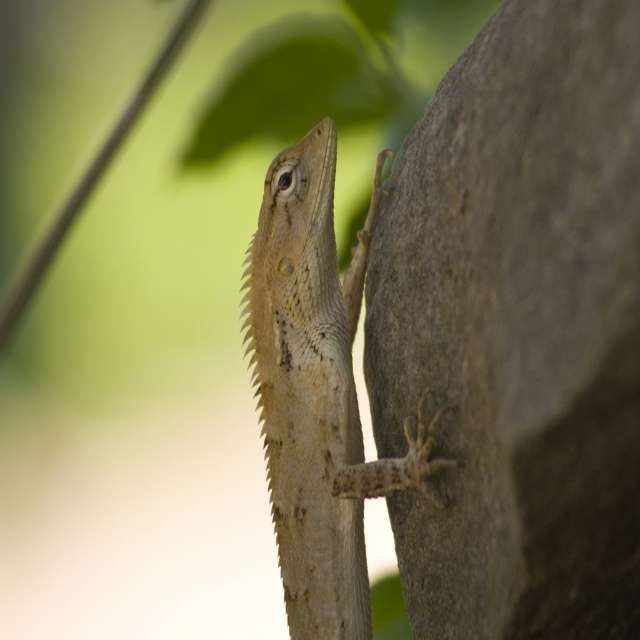Lizard: (239, 111, 456, 639)
